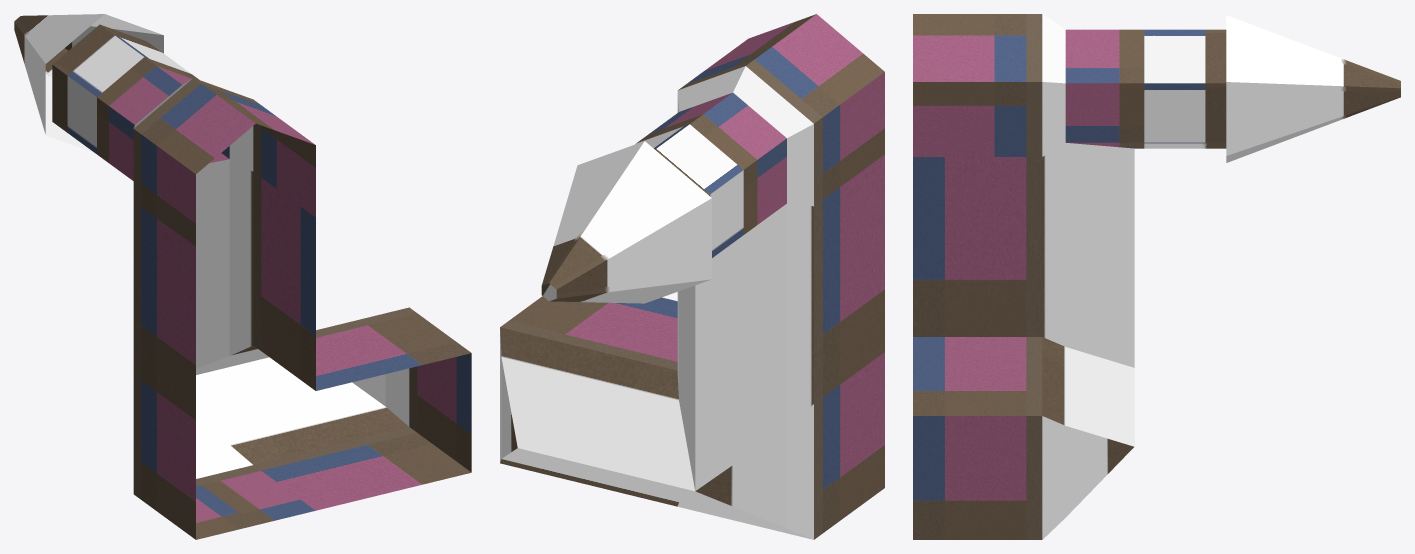
File: church_1.fbx
3 views of the same model, side by side, from view 1: azimuth 30°, elevation 25°; view 2: azimuth 150°, elevation 25°; view 3: azimuth 270°, elevation 25° (orthographic). The views are drawn at different scales.
Visible parts, largest first — view 1: Cylinder.009; view 2: Cylinder.009; view 3: Cylinder.009.
Boxes of the visible parts, x1,y1,x2,y2 form: Cylinder.009: (14,14,471,539); Cylinder.009: (500,14,884,539); Cylinder.009: (913,14,1400,539).
Size of the model in its own units: 1088 by 1514 by 1607.
